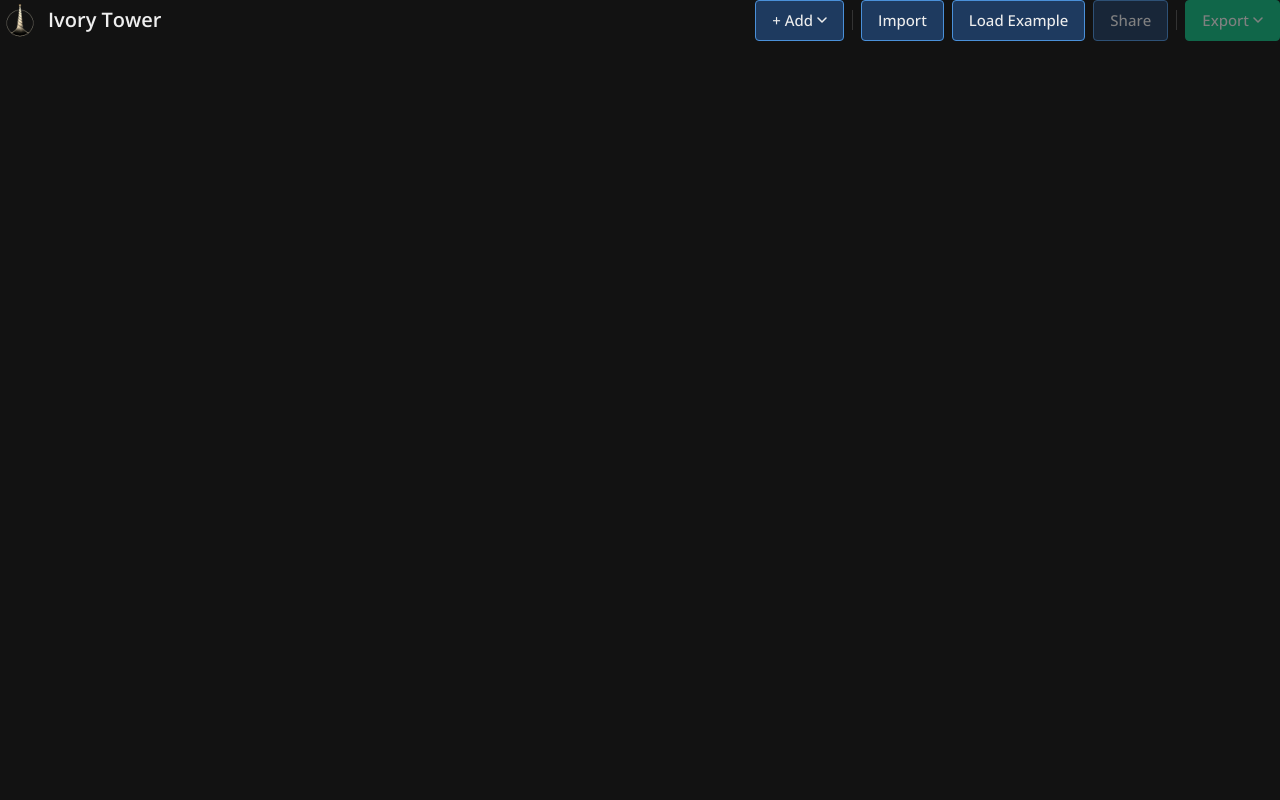
it: Toolbar › Load Example button › shows confirmation dialog when Load Example is clicked
Click the button "Load Example": (1019,20) [952,0,1085,40]
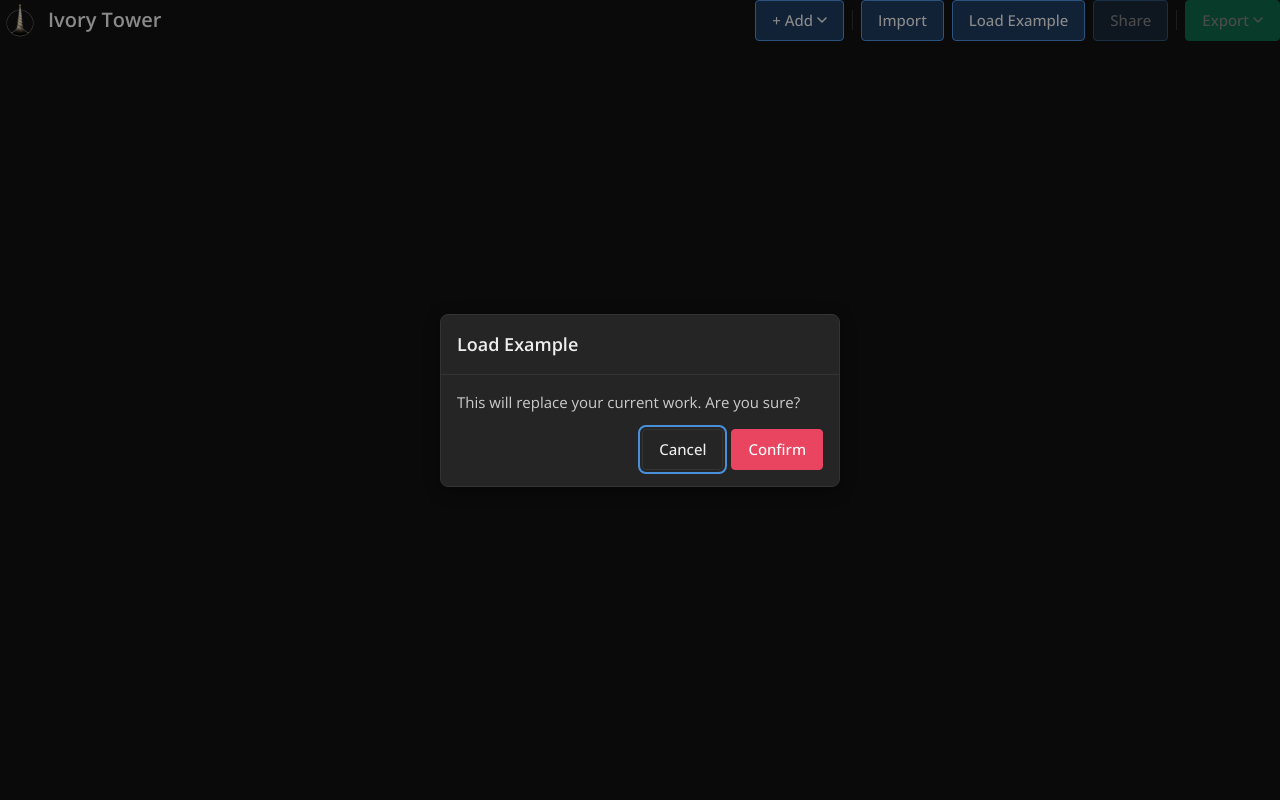
Expected: the text "This will replace your current work. Are you sure?" is shown, [457,390,823,413]
